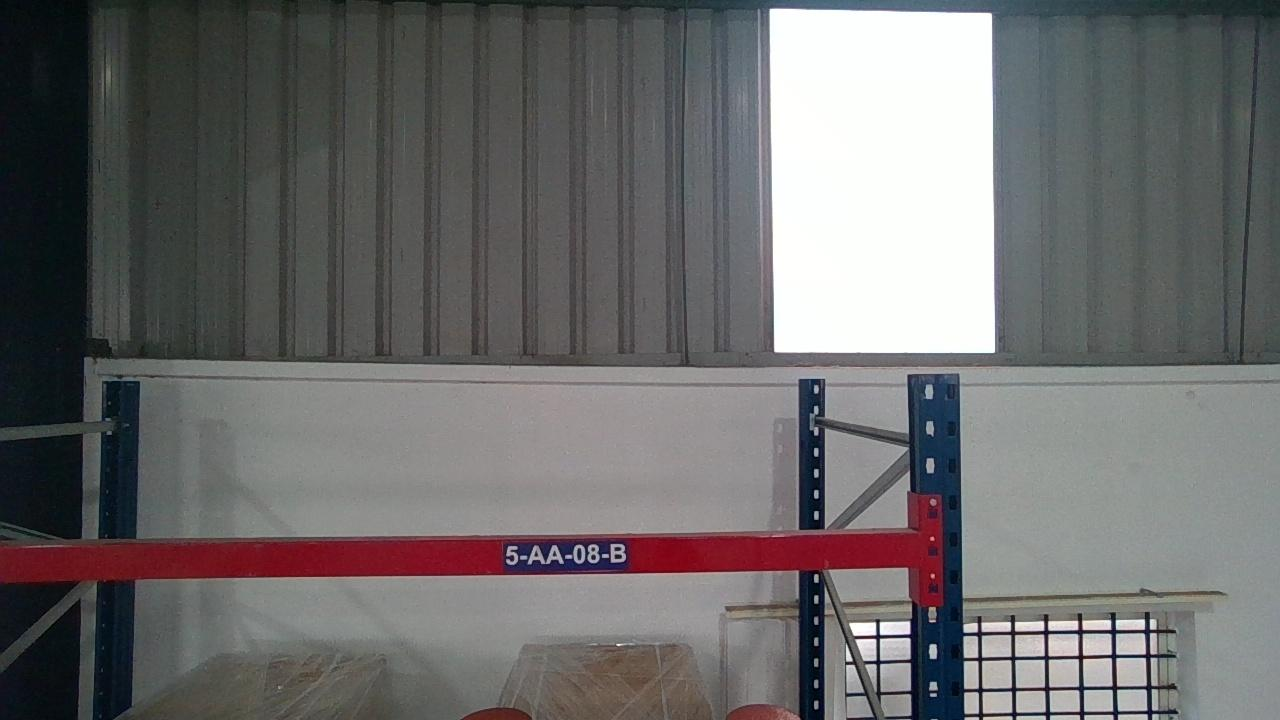h_rack: (0, 537, 926, 578)
